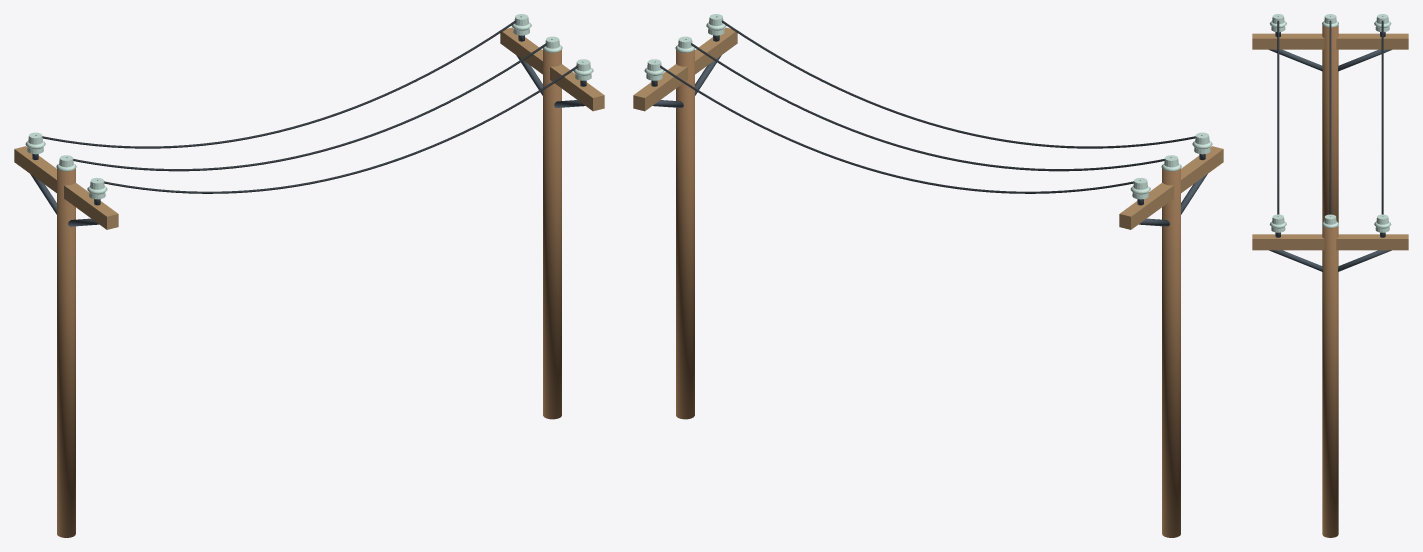
The model's file is telegraph_pole.glb.
The picture shows the model from 3 angles, left to right: view 1: azimuth 30°, elevation 25°; view 2: azimuth 150°, elevation 25°; view 3: azimuth 270°, elevation 25°; orthographic projection. The views are drawn at different scales.
Visible parts, largest first — view 1: Tall telegraph timber pole, Tall telegraph timber pole.001, Telegraph crossarm, Telegraph crossarm.001, thin_sagging_telegraph_wire_002m, thin_sagging_telegraph_wire_002m.002, thin_sagging_telegraph_wire_002m.001; view 2: Tall telegraph timber pole, Tall telegraph timber pole.001, Telegraph crossarm, Telegraph crossarm.001, thin_sagging_telegraph_wire_002m.002, thin_sagging_telegraph_wire_002m, thin_sagging_telegraph_wire_002m.001; view 3: Tall telegraph timber pole.001, Tall telegraph timber pole, Telegraph crossarm.001, Telegraph crossarm, thin_sagging_telegraph_wire_002m, thin_sagging_telegraph_wire_002m.001, thin_sagging_telegraph_wire_002m.002, Crossarm diagonal iron brace, Crossarm diagonal iron brace.001, Crossarm diagonal iron brace.002, Crossarm diagonal iron brace.003.
Part boxes in pixels (x1=…): Tall telegraph timber pole: x1=57, y1=168, x2=75, y2=537; Tall telegraph timber pole.001: x1=543, y1=50, x2=561, y2=419; Telegraph crossarm: x1=14, y1=146, x2=118, y2=229; Telegraph crossarm.001: x1=500, y1=27, x2=604, y2=111; thin_sagging_telegraph_wire_002m: x1=97, y1=61, x2=583, y2=193; thin_sagging_telegraph_wire_002m.002: x1=35, y1=16, x2=521, y2=148; thin_sagging_telegraph_wire_002m.001: x1=66, y1=39, x2=552, y2=171; Tall telegraph timber pole: x1=1162, y1=168, x2=1180, y2=537; Tall telegraph timber pole.001: x1=676, y1=50, x2=694, y2=419; Telegraph crossarm: x1=1119, y1=146, x2=1223, y2=229; Telegraph crossarm.001: x1=633, y1=27, x2=737, y2=111; thin_sagging_telegraph_wire_002m.002: x1=654, y1=61, x2=1140, y2=193; thin_sagging_telegraph_wire_002m: x1=716, y1=16, x2=1202, y2=148; thin_sagging_telegraph_wire_002m.001: x1=685, y1=39, x2=1171, y2=171; Tall telegraph timber pole.001: x1=1322, y1=226, x2=1338, y2=537; Tall telegraph timber pole: x1=1322, y1=25, x2=1338, y2=222; Telegraph crossarm.001: x1=1252, y1=234, x2=1408, y2=250; Telegraph crossarm: x1=1252, y1=33, x2=1408, y2=49; thin_sagging_telegraph_wire_002m: x1=1277, y1=16, x2=1279, y2=216; thin_sagging_telegraph_wire_002m.001: x1=1329, y1=16, x2=1331, y2=216; thin_sagging_telegraph_wire_002m.002: x1=1381, y1=16, x2=1383, y2=216; Crossarm diagonal iron brace: x1=1269, y1=49, x2=1322, y2=71; Crossarm diagonal iron brace.001: x1=1338, y1=49, x2=1391, y2=71; Crossarm diagonal iron brace.002: x1=1269, y1=250, x2=1322, y2=271; Crossarm diagonal iron brace.003: x1=1338, y1=250, x2=1391, y2=271.
Size of the model in its own units: 5.18 by 3.7 by 1.65.
